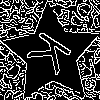K: (26, 29, 81, 82)
